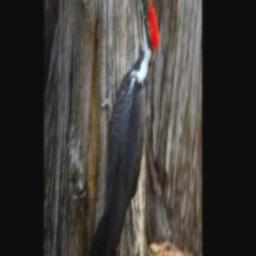Woodpecker: (84, 0, 161, 256)
